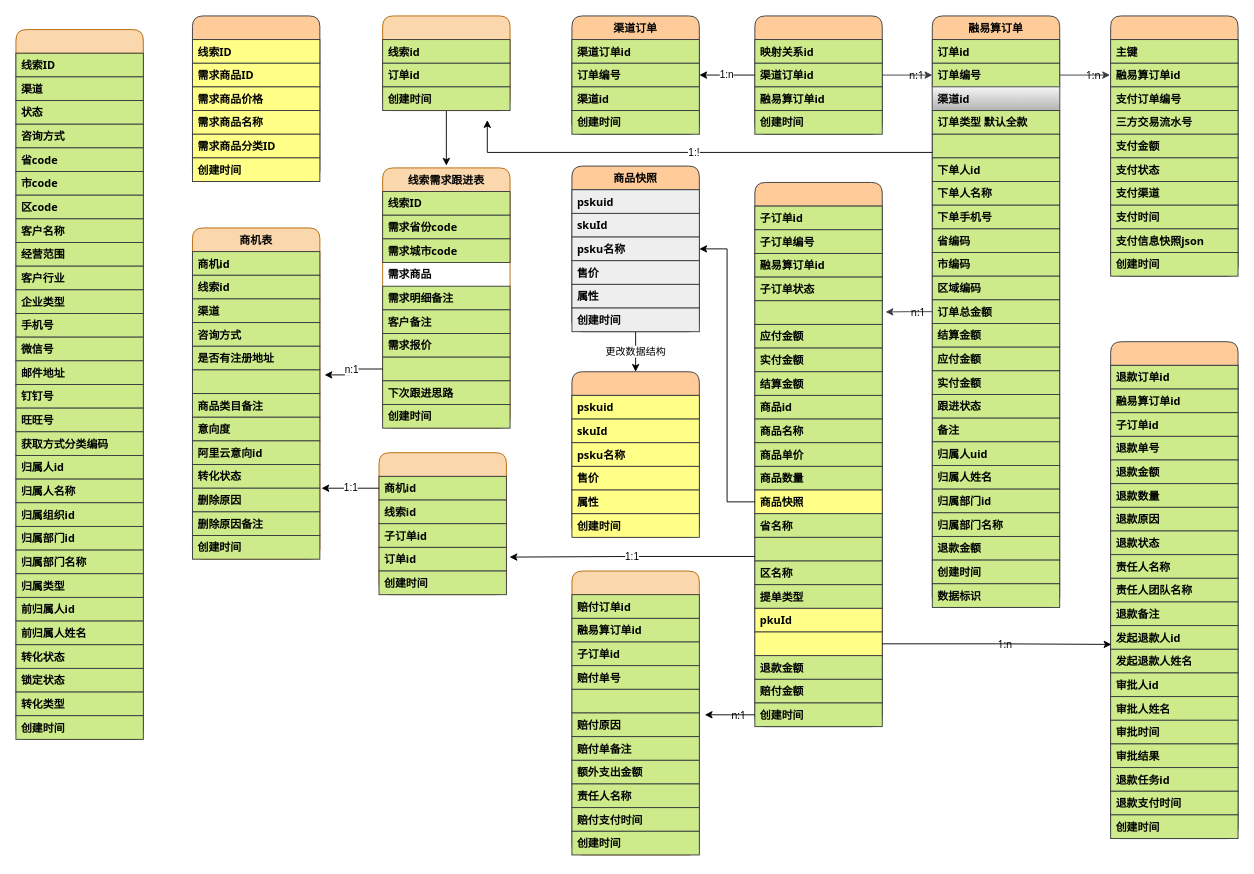
The diagram is 1254 pixels wide and 874 high, and some of its shapes have lost their labels. Each missing label, with the box of its shape:
pskuName: (754, 631, 882, 656)
psku快照: (571, 371, 699, 537)
下次跟进时间: (382, 356, 510, 381)
商品类目id: (192, 369, 320, 394)
商机-子订单转化表: (378, 452, 506, 595)
子订单金额: (754, 300, 882, 324)
市名称: (754, 536, 882, 561)
渠道订单映射关系: (754, 15, 882, 134)
线索表: (15, 29, 143, 739)
线索订单关联表: (382, 15, 510, 111)
融易算子订单: (754, 182, 882, 727)
融易算支付订单: (1110, 15, 1238, 276)
融易算赔付订单: (571, 570, 699, 855)
融易算退款订单: (1110, 341, 1238, 839)
订单状态: (931, 133, 1060, 158)
赔偿金: (571, 688, 699, 713)
需求商品表: (192, 15, 320, 182)
